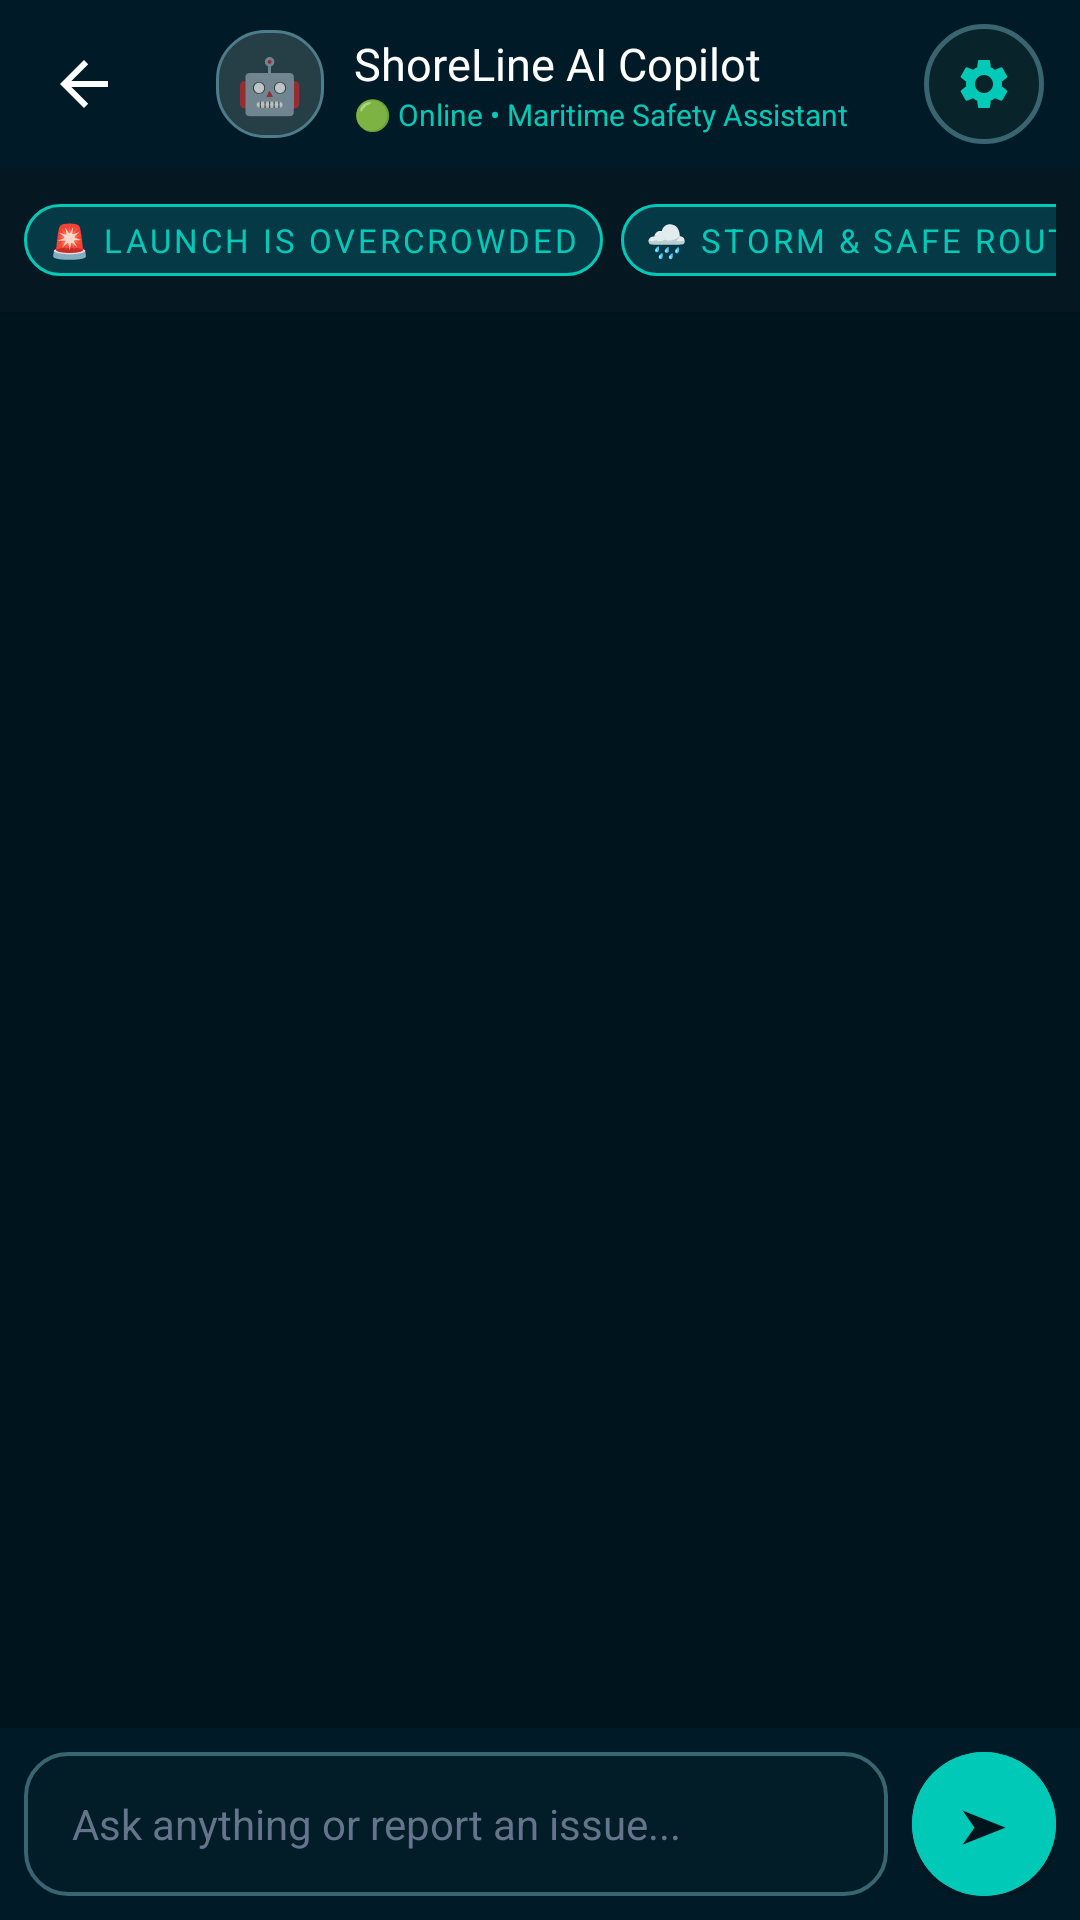

Point at icon controls on the screen. Image size 1080px x 1920px, points as (x=x, y=y).
API Key Settings: (x=984, y=84)
